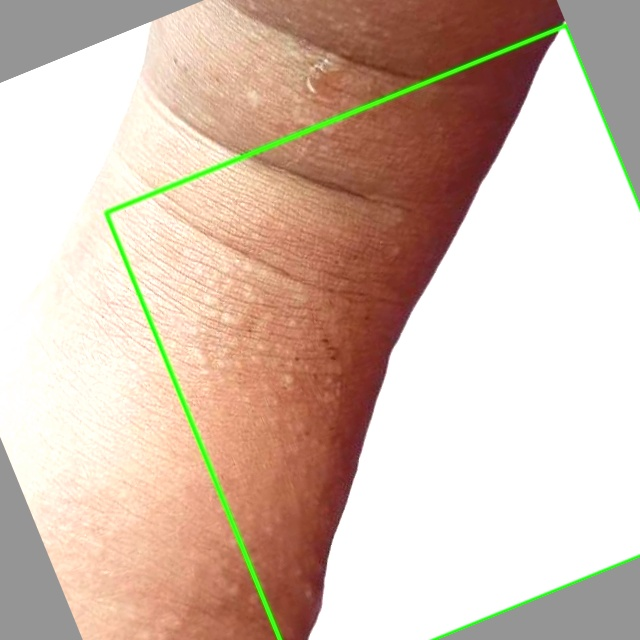Scabies: (105, 25, 639, 639)
